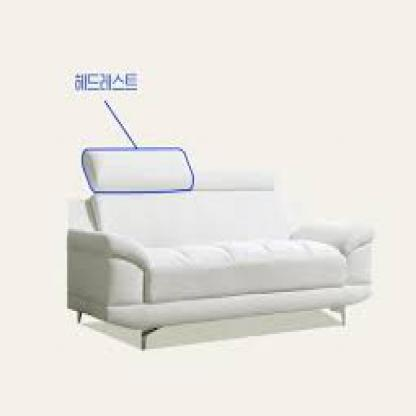sofa: (64, 153, 375, 355)
